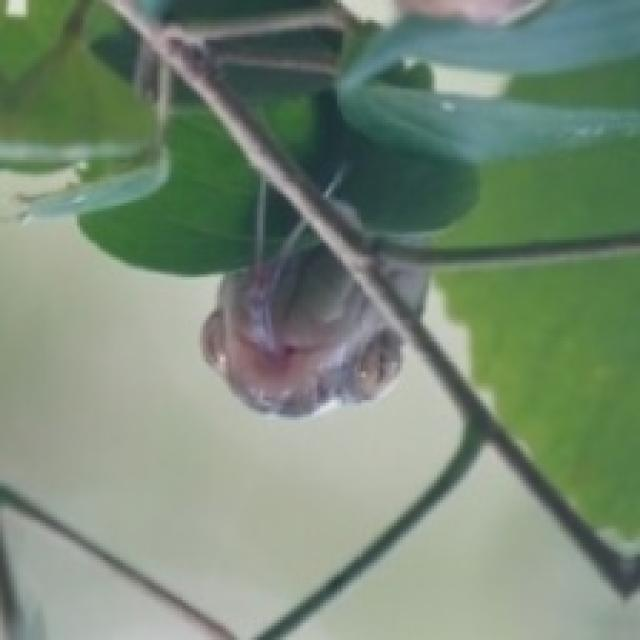dog-toothed cat snake: (203, 220, 397, 414)
